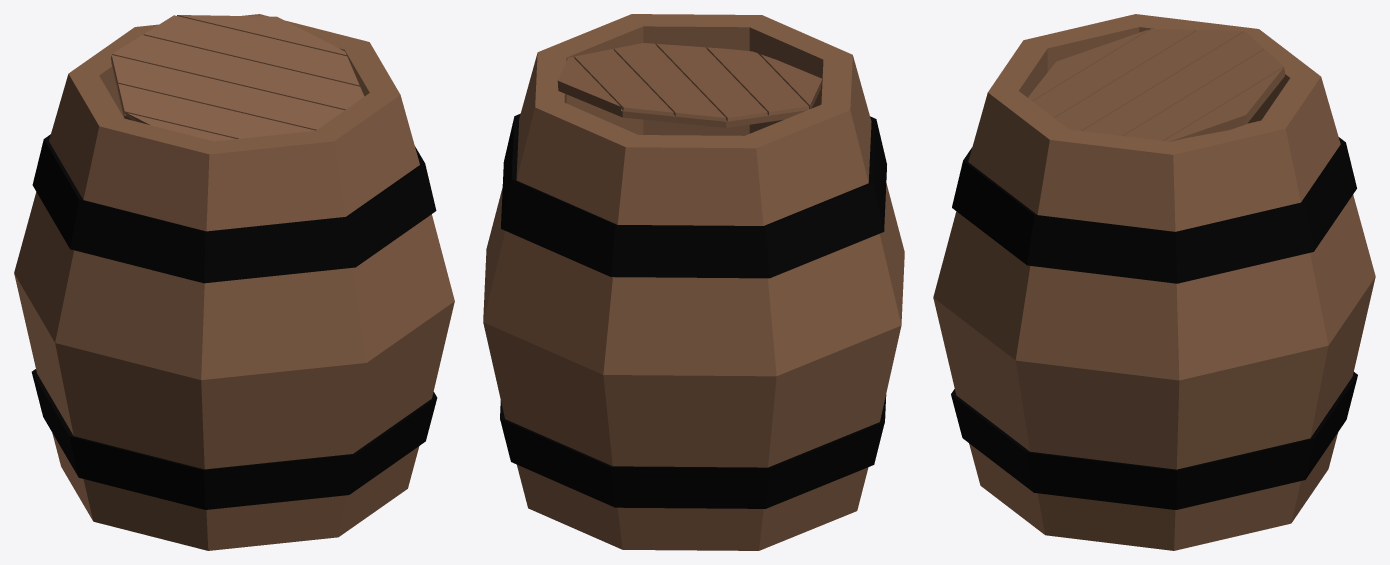
The model's file is barrel.fbx.
The picture shows the model from 3 angles, left to right: view 1: azimuth 30°, elevation 25°; view 2: azimuth 150°, elevation 25°; view 3: azimuth 270°, elevation 25°; orthographic projection.
Visible parts, largest first — view 1: barrel; view 2: barrel; view 3: barrel.
Boxes of the visible parts, box(x1,y1,x2,y2) form: barrel: box(14, 14, 454, 550); barrel: box(483, 14, 904, 550); barrel: box(933, 14, 1375, 550).
Bounding box in the file's own units: 0.5499 × 0.5499 × 0.5668.
